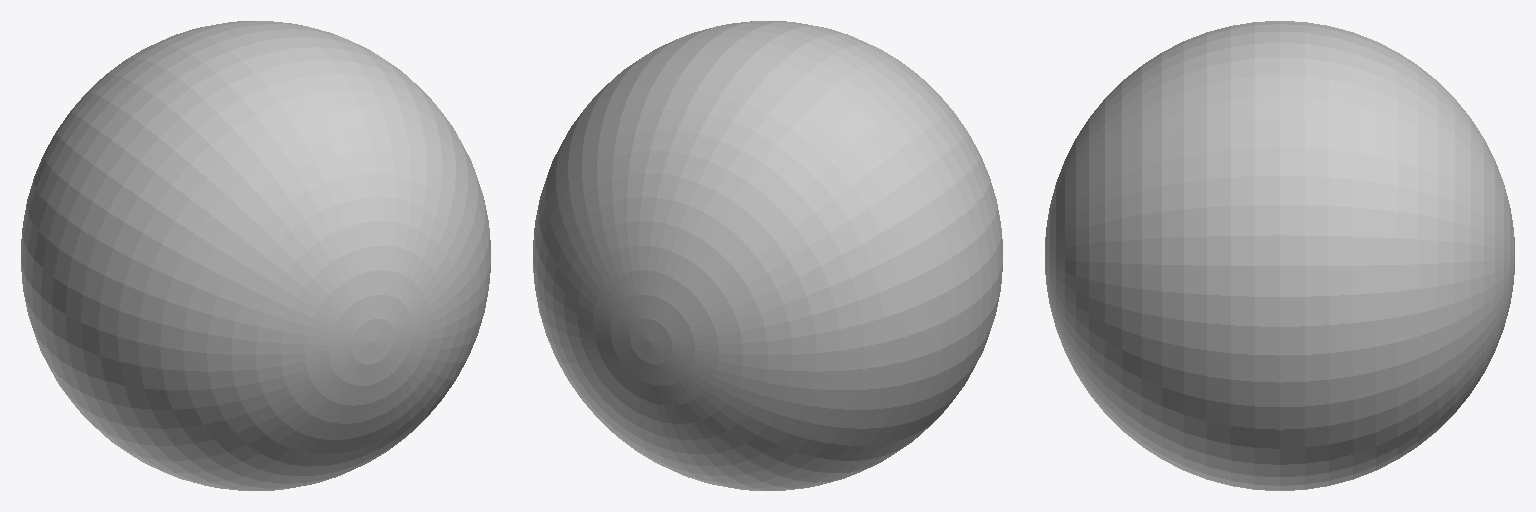
Rendered from moon.obj.
3 views of the same model, side by side, from view 1: azimuth 30°, elevation 25°; view 2: azimuth 150°, elevation 25°; view 3: azimuth 270°, elevation 25° (orthographic).
Parts seen in each view (by area): view 1: Object.1; view 2: Object.1; view 3: Object.1.
Boxes of the visible parts, <box> form: Object.1: <box>21,21,490,490</box>; Object.1: <box>533,21,1002,490</box>; Object.1: <box>1045,21,1514,490</box>.
Size of the model in its own units: 2000 by 2000 by 2000.